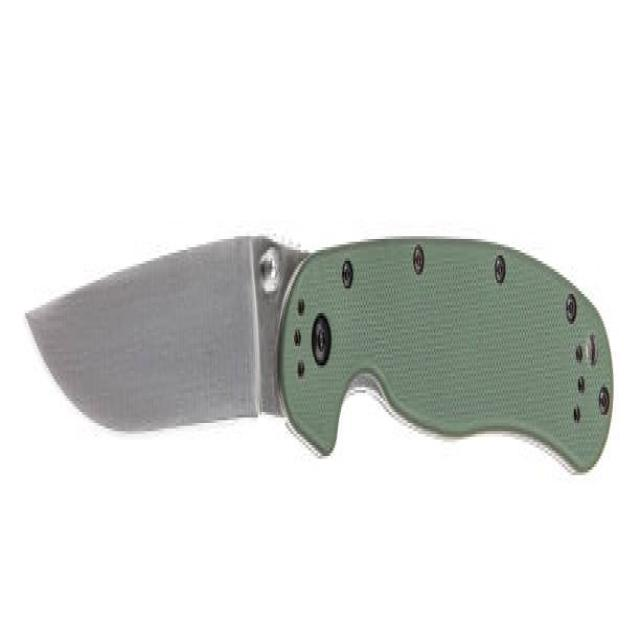knife: (21, 202, 620, 537)
